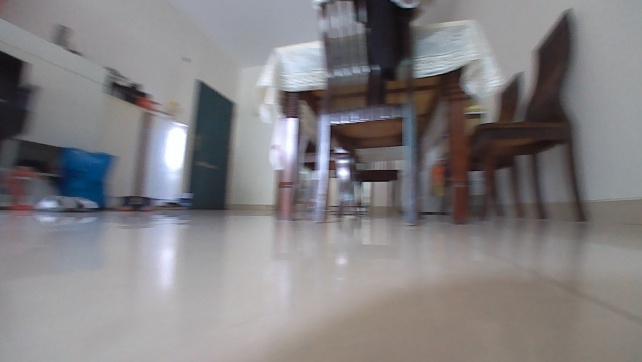dining_table: (254, 0, 589, 226)
